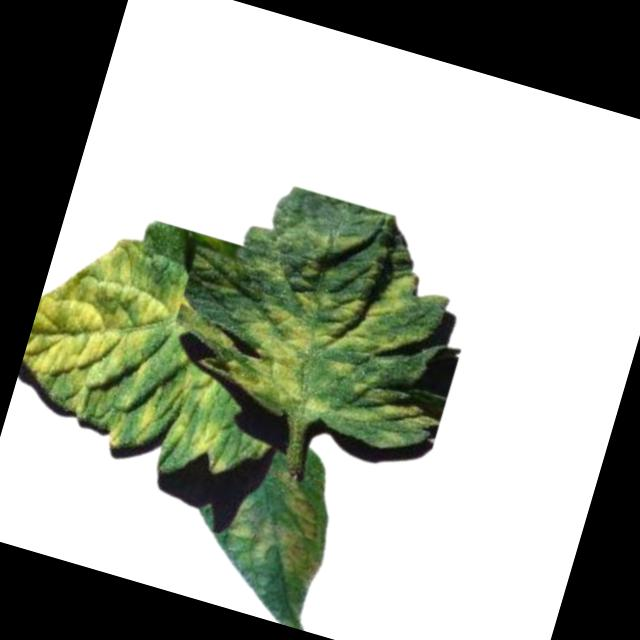Leaf_Mold: (7, 218, 269, 474), (221, 210, 480, 453), (221, 460, 343, 588)
